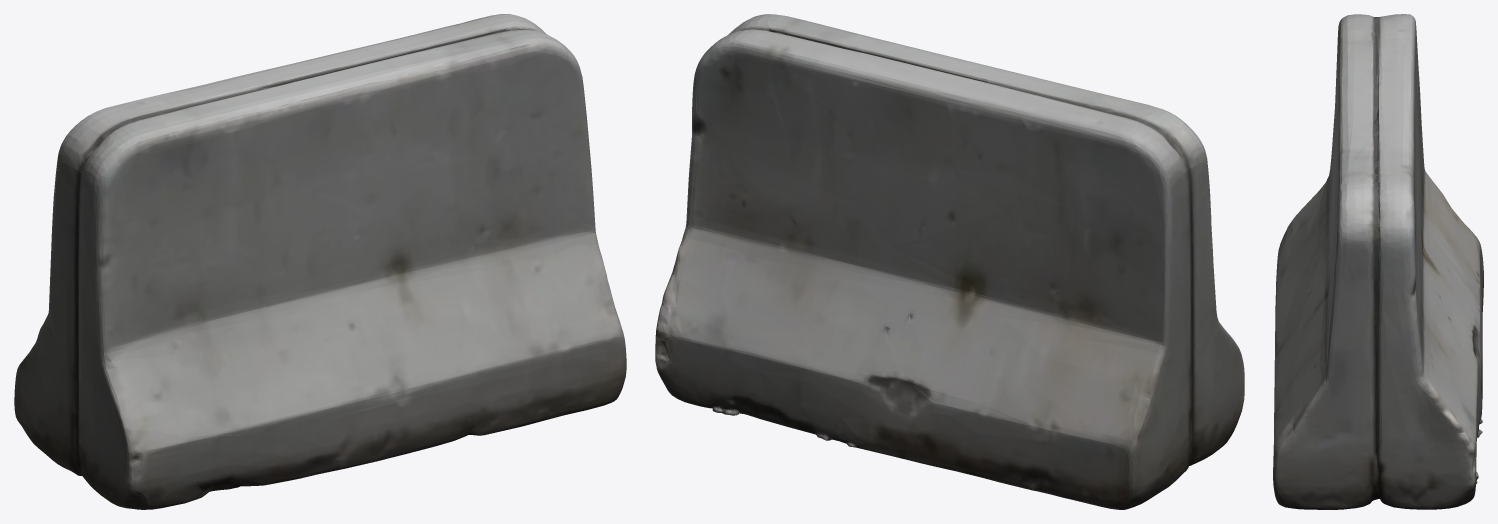
The model's file is roadblock.glb.
3 views of the same model, side by side, from view 1: azimuth 30°, elevation 25°; view 2: azimuth 150°, elevation 25°; view 3: azimuth 270°, elevation 25° (orthographic). The views are drawn at different scales.
Parts seen in each view (by area): view 1: geometry_0; view 2: geometry_0; view 3: geometry_0.
Part boxes in pixels (bbox=[...]): geometry_0: bbox=[14, 14, 626, 509]; geometry_0: bbox=[655, 14, 1244, 509]; geometry_0: bbox=[1273, 14, 1483, 509].
Bounding box in the file's own units: 0.9949 × 0.6708 × 0.4193.
1 material, 1 textured.
